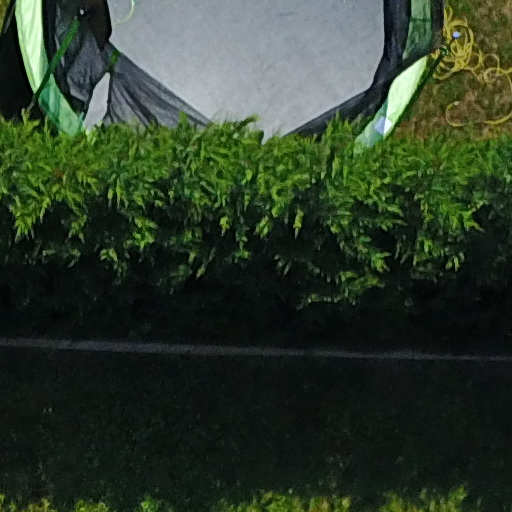toy: (9, 1, 448, 183)
